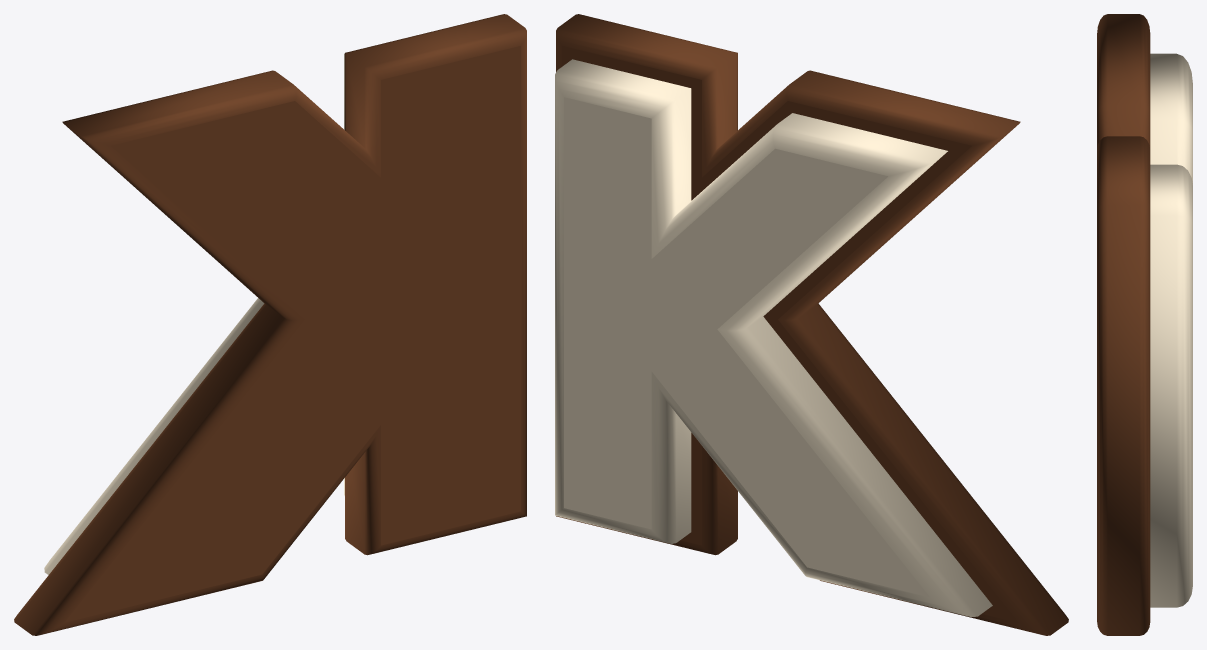
File: Letter_K.fbx
3 views of the same model, side by side, from view 1: azimuth 30°, elevation 25°; view 2: azimuth 150°, elevation 25°; view 3: azimuth 270°, elevation 25° (orthographic). The views are drawn at different scales.
Parts seen in each view (by area): view 1: Letter_K; view 2: Letter_K; view 3: Letter_K.
Part boxes in pixels (bbox=[...]): Letter_K: bbox=[14, 14, 526, 635]; Letter_K: bbox=[555, 14, 1068, 635]; Letter_K: bbox=[1097, 14, 1192, 635].
Bounding box in the file's own units: 0.944 × 0.892 × 0.18.
Materials: 1 (1 with a texture image).
